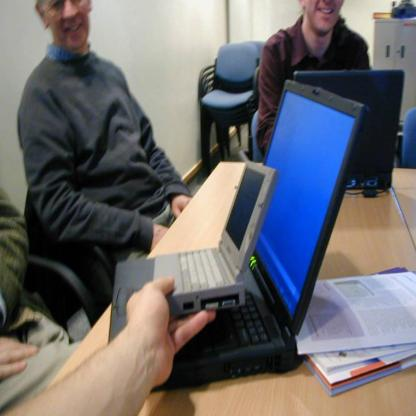board: (115, 76, 364, 393), (154, 160, 276, 315), (293, 70, 403, 189)
